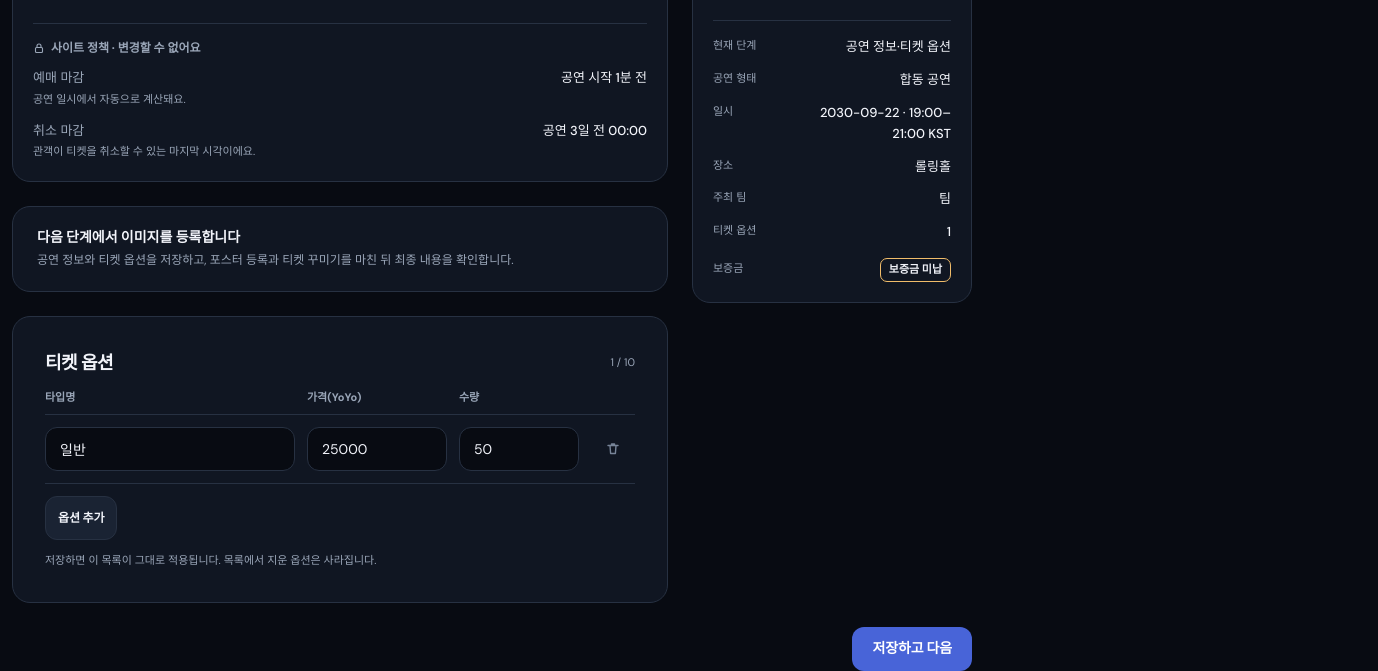
참여팀 단계 › 공동 공연은 저장 뒤 참여팀 단계로 간다
The image size is (1378, 671).
(page scrolled)
Click the button "저장하고 다음".
click(912, 649)  # box [852,627,972,670]
(page scrolled)
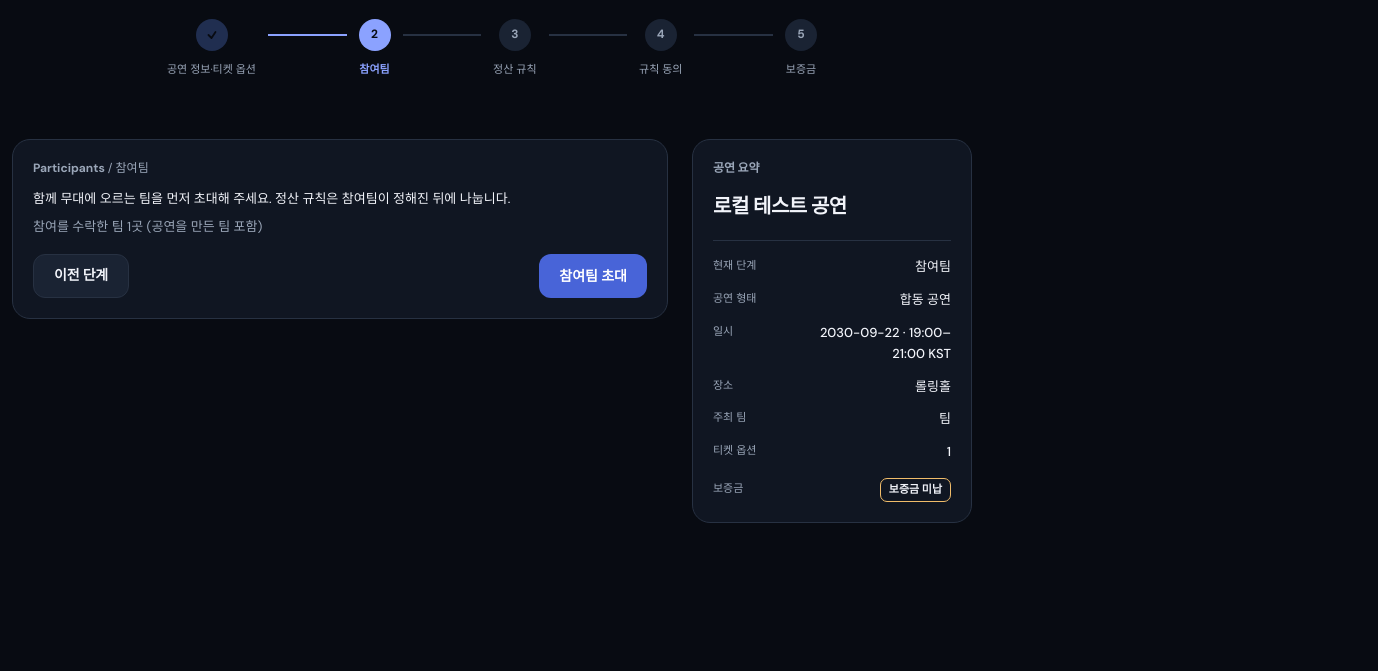
expect the element "참여팀" is shown: met, box [12,139,668,318]
